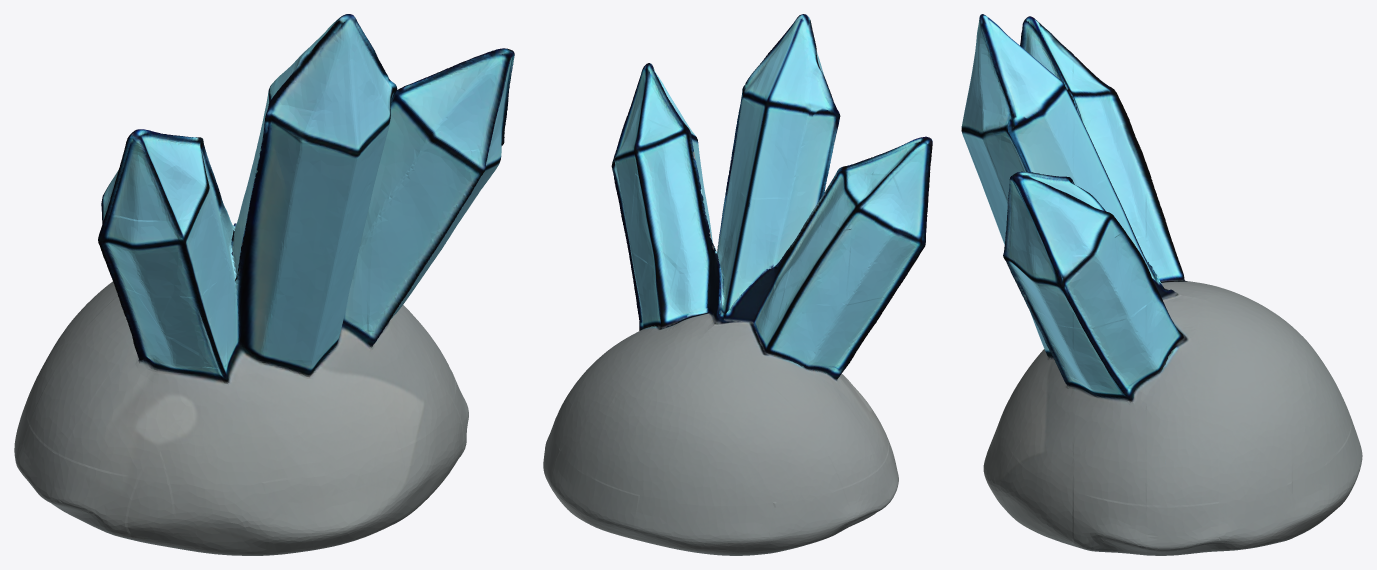
The model's file is crystal_cluster.glb.
The picture shows the model from 3 angles, left to right: view 1: azimuth 30°, elevation 25°; view 2: azimuth 150°, elevation 25°; view 3: azimuth 270°, elevation 25°; orthographic projection. The views are drawn at different scales.
Parts seen in each view (by area): view 1: tmptxzvh118.ply; view 2: tmptxzvh118.ply; view 3: tmptxzvh118.ply.
Part boxes in pixels (x1=…): tmptxzvh118.ply: x1=14, y1=14, x2=514, y2=555; tmptxzvh118.ply: x1=543, y1=14, x2=932, y2=555; tmptxzvh118.ply: x1=961, y1=14, x2=1362, y2=555.
Size of the model in its own units: 1.54 by 2 by 1.49.
Materials: 1 (1 with a texture image).
